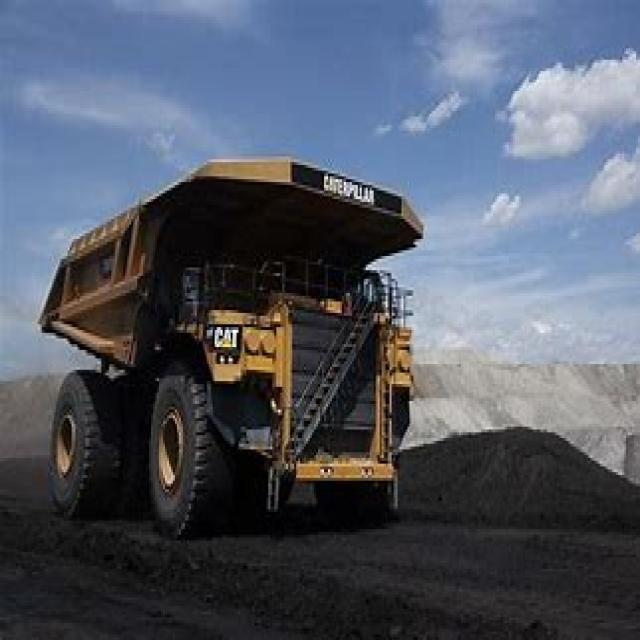dump_truck: (30, 151, 419, 529)
